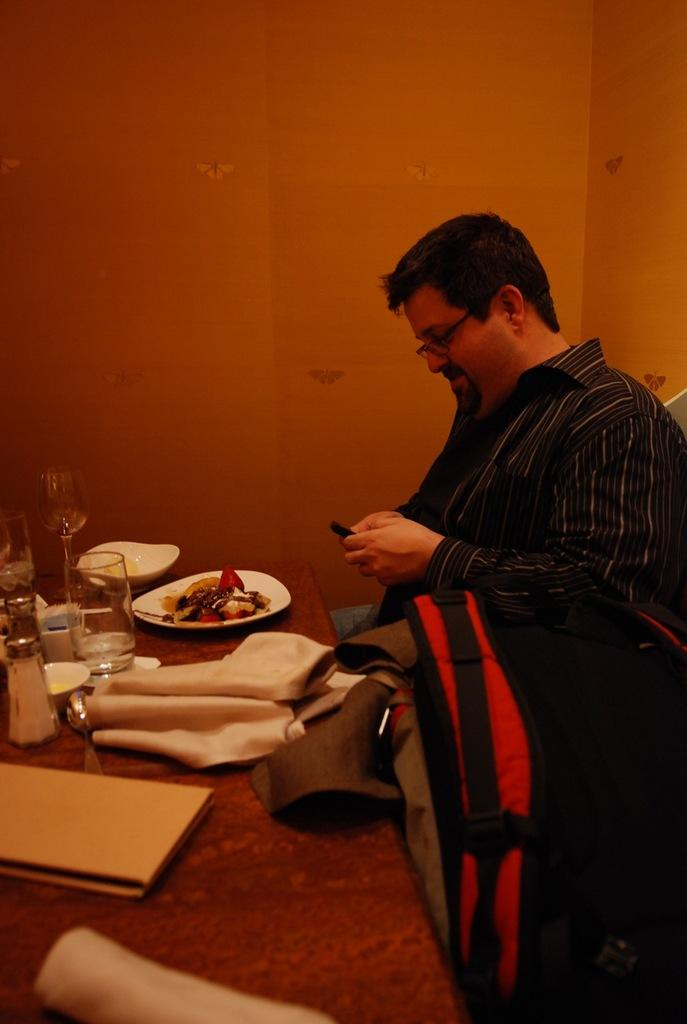Luggage-and-bags: (404, 568, 686, 1023)
